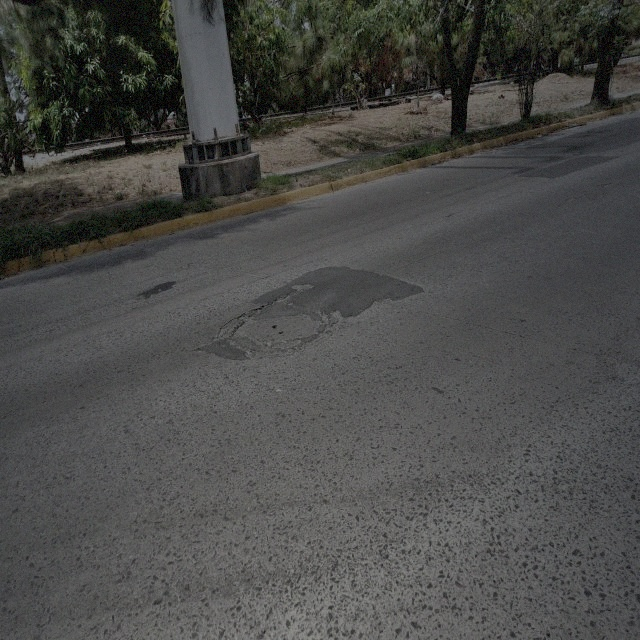pothole: (219, 307, 267, 342), (320, 306, 344, 329), (291, 282, 313, 294)
